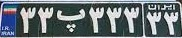character: (55, 5, 87, 35), (18, 4, 37, 36), (122, 4, 141, 36), (37, 4, 55, 37), (87, 5, 106, 36), (105, 5, 123, 35), (163, 10, 181, 36), (146, 10, 163, 35)
